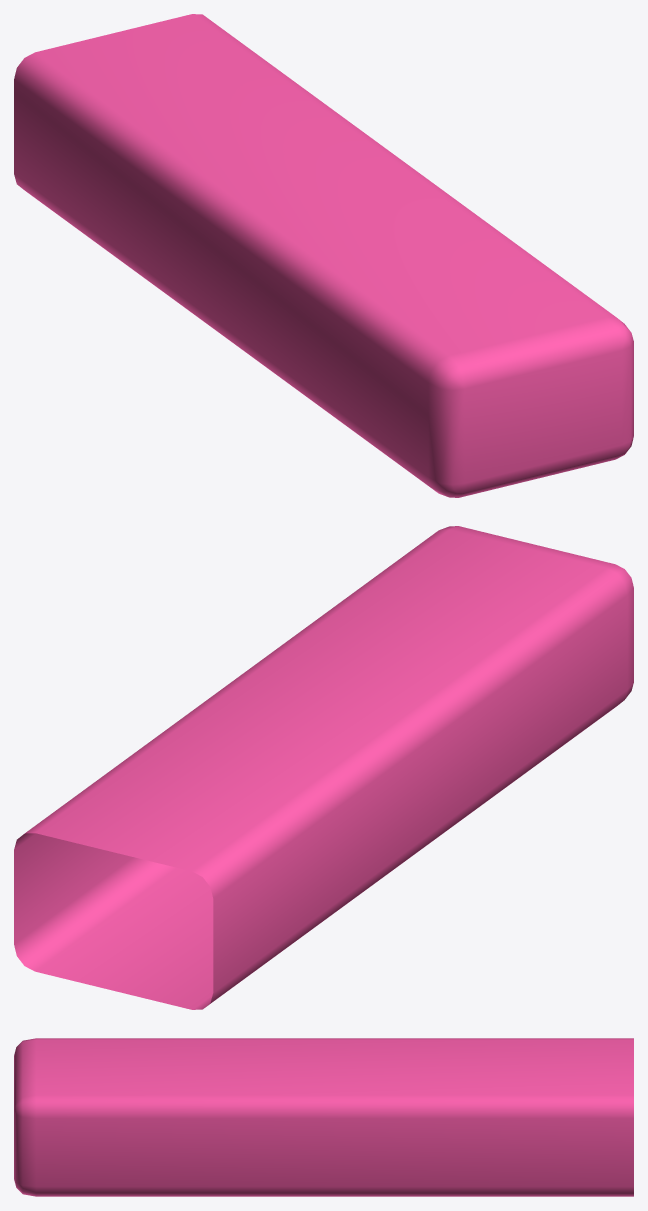
The model's file is DecorMachine_BlockButtons_Splitter.FBX.
3 views of the same model, one above another, from view 1: azimuth 30°, elevation 25°; view 2: azimuth 150°, elevation 25°; view 3: azimuth 270°, elevation 25° (orthographic). The views are drawn at different scales.
Visible parts, largest first — view 1: DecorMachine_BlockButtons_Splitter; view 2: DecorMachine_BlockButtons_Splitter; view 3: DecorMachine_BlockButtons_Splitter.
Part boxes in pixels (<box>): DecorMachine_BlockButtons_Splitter: <box>14,14,633,497</box>; DecorMachine_BlockButtons_Splitter: <box>14,526,633,1009</box>; DecorMachine_BlockButtons_Splitter: <box>14,1038,633,1196</box>.
Size of the model in its own units: 3272 by 2174 by 12224.
